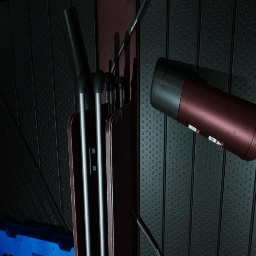NitrogenTank ,: (150, 64, 256, 161)
